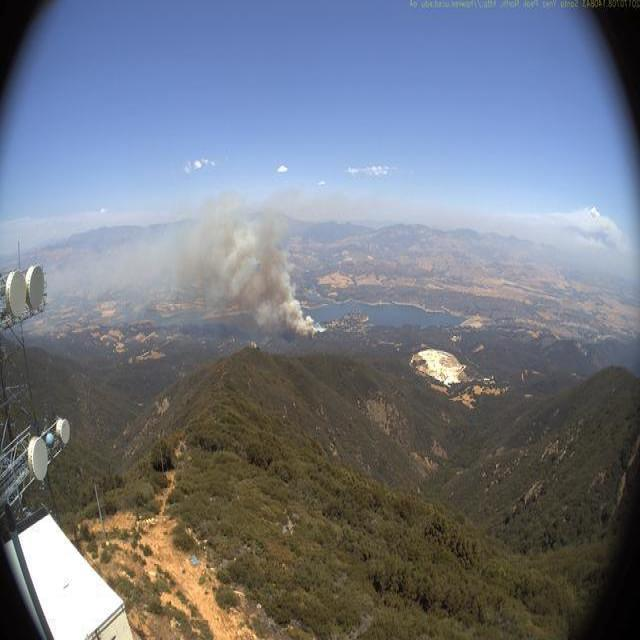Smoke: (120, 178, 328, 338)
